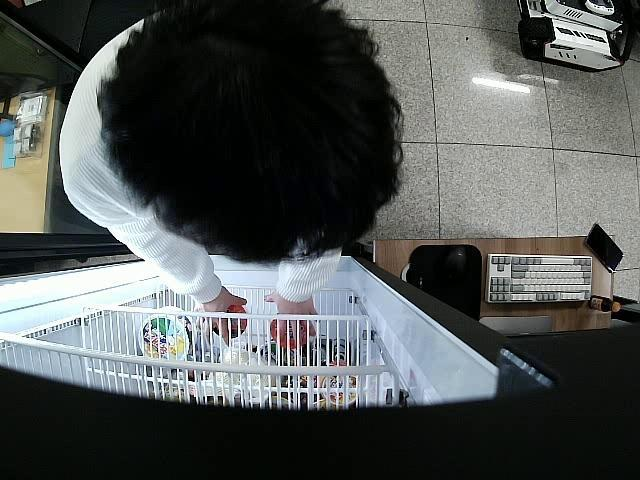02_shinRamen_S: (214, 306, 248, 340), (272, 317, 308, 348)
